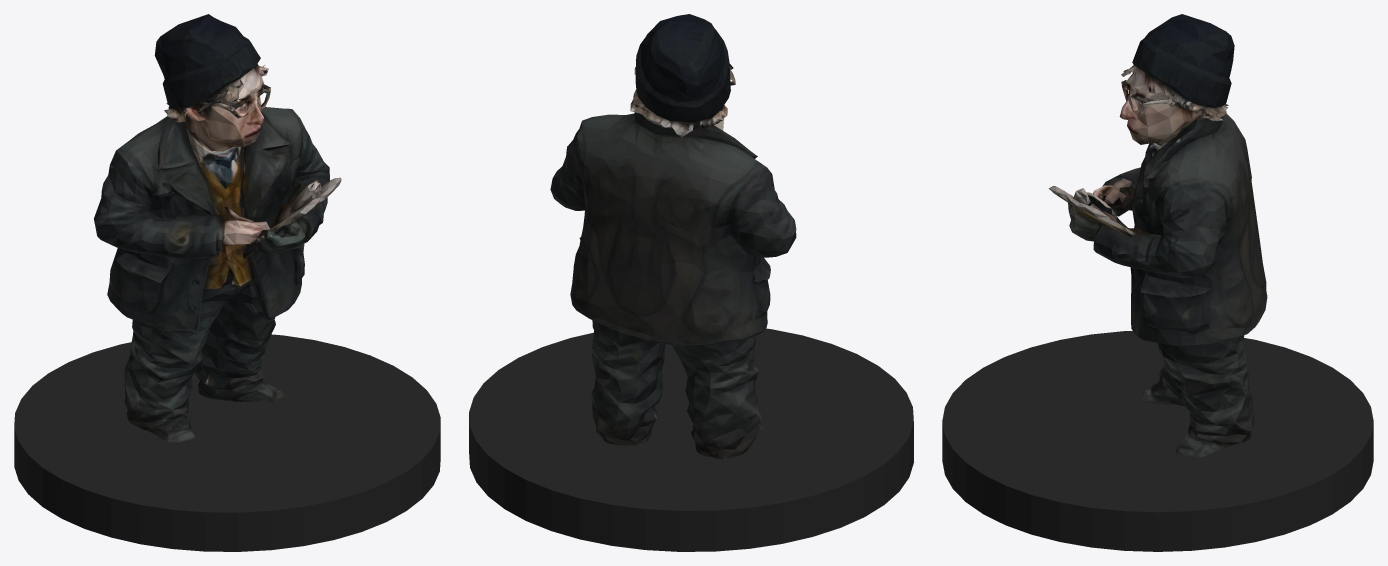
Rendered from david-garcia.glb.
The picture shows the model from 3 angles, left to right: view 1: azimuth 30°, elevation 25°; view 2: azimuth 150°, elevation 25°; view 3: azimuth 270°, elevation 25°; orthographic projection. The views are drawn at different scales.
Parts seen in each view (by area): view 1: base, figure; view 2: figure, base; view 3: base, figure.
Boxes of the visible parts, left/top/right/bottom form: base: left=14, top=334, right=440, bottom=551; figure: left=94, top=14, right=341, bottom=442; figure: left=550, top=14, right=796, bottom=458; base: left=469, top=328, right=913, bottom=551; base: left=942, top=331, right=1373, bottom=551; figure: left=1049, top=14, right=1267, bottom=457.
Bounding box in the file's own units: 1.18 × 1.32 × 1.18.
Materials: 2 (1 with a texture image).
